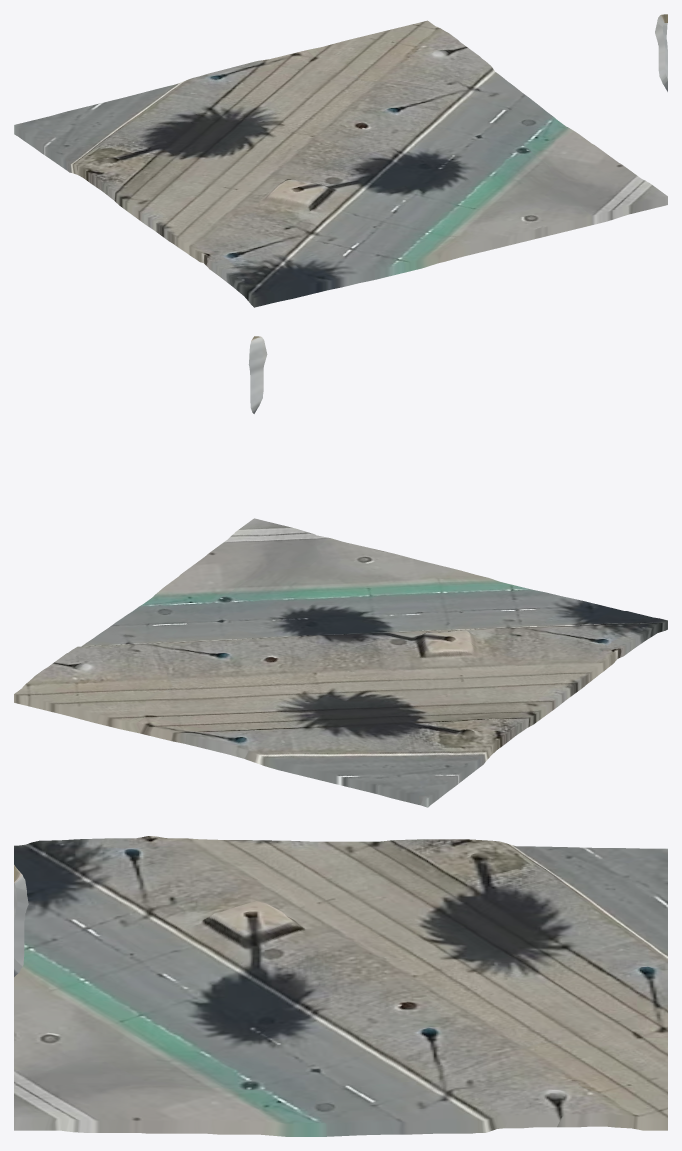
The model's file is z20-167777-405204-h0-yup-uvflip-v3-world.glb.
The picture shows the model from 3 angles, top to bottom: view 1: azimuth 30°, elevation 25°; view 2: azimuth 150°, elevation 25°; view 3: azimuth 270°, elevation 25°; orthographic projection. The views are drawn at different scales.
Bounding box in the file's own units: 30.16 × 13.68 × 30.32.
1 material, 1 textured.
